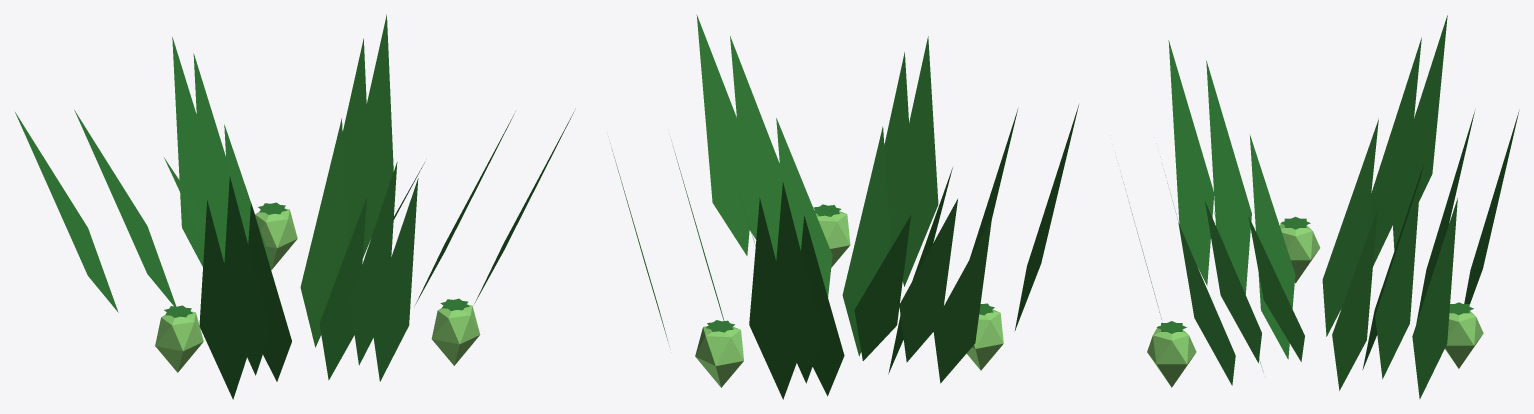
File: strawberry_stage_3.glb
3 views of the same model, side by side, from view 1: azimuth 30°, elevation 25°; view 2: azimuth 150°, elevation 25°; view 3: azimuth 270°, elevation 25° (orthographic).
Parts seen in each view (by area): view 1: Plane.030, Plane.037, Plane.034, Plane.043, Plane.032, Plane.027, Plane.026, Plane.042, Plane.031, Plane.035, Plane.039, Plane.036 (+8 smaller); view 2: Plane.033, Plane.028, Plane.035, Plane.034, Plane.031, Plane.036, Plane.042, Plane.041, Plane.040, Plane.027, Plane.038, Plane.029 (+6 smaller); view 3: Plane.037, Plane.043, Plane.041, Plane.040, Plane.032, Plane.026, Plane.036, Plane.030, Plane.039, Plane.028, Plane.033, Plane.029 (+6 smaller).
Part boxes in pixels (x1,y1,x2,y2): Plane.030: [300, 118, 347, 347]; Plane.037: [199, 200, 248, 399]; Plane.034: [371, 178, 418, 381]; Plane.043: [224, 176, 270, 375]; Plane.032: [362, 14, 393, 258]; Plane.027: [350, 162, 397, 365]; Plane.026: [342, 38, 370, 246]; Plane.042: [193, 53, 228, 247]; Plane.031: [319, 197, 366, 380]; Plane.035: [172, 37, 204, 266]; Plane.039: [248, 203, 291, 381]; Plane.036: [15, 112, 118, 312]; Plane.033: [696, 14, 749, 255]; Plane.028: [730, 36, 781, 260]; Plane.035: [749, 198, 799, 399]; Plane.034: [902, 36, 938, 286]; Plane.031: [842, 126, 890, 356]; Plane.036: [933, 219, 991, 383]; Plane.042: [776, 182, 822, 383]; Plane.041: [899, 199, 957, 362]; Plane.040: [854, 215, 910, 360]; Plane.027: [884, 52, 914, 247]; Plane.038: [801, 215, 844, 396]; Plane.029: [776, 118, 832, 296]; Plane.037: [1168, 40, 1214, 285]; Plane.043: [1206, 60, 1251, 294]; Plane.041: [1366, 37, 1421, 266]; Plane.040: [1322, 118, 1378, 336]; Plane.032: [1412, 198, 1457, 399]; Plane.026: [1375, 178, 1420, 379]; Plane.036: [1393, 15, 1447, 250]; Plane.030: [1332, 209, 1377, 390]; Plane.039: [1249, 134, 1295, 359]; Plane.028: [1205, 201, 1261, 362]; Plane.033: [1178, 223, 1235, 385]; Plane.029: [1248, 216, 1304, 361].
Size of the model in its own units: 1.18 by 0.682 by 0.988.
